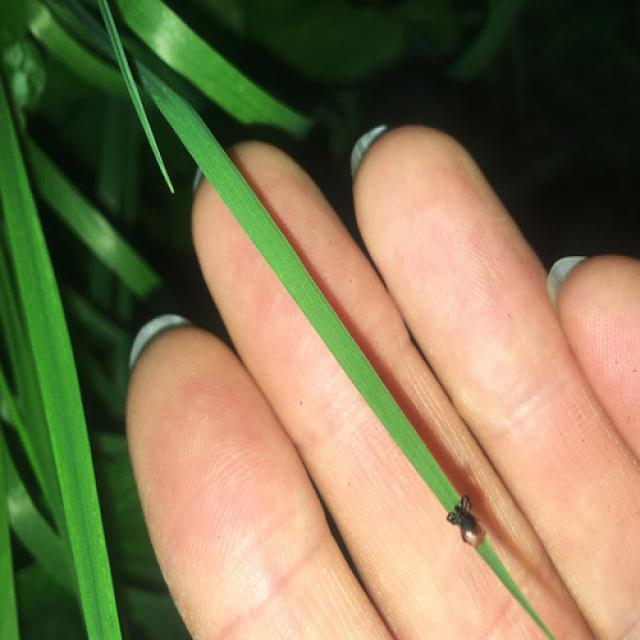Ixodes Ricinus-F: (447, 495, 485, 546)
